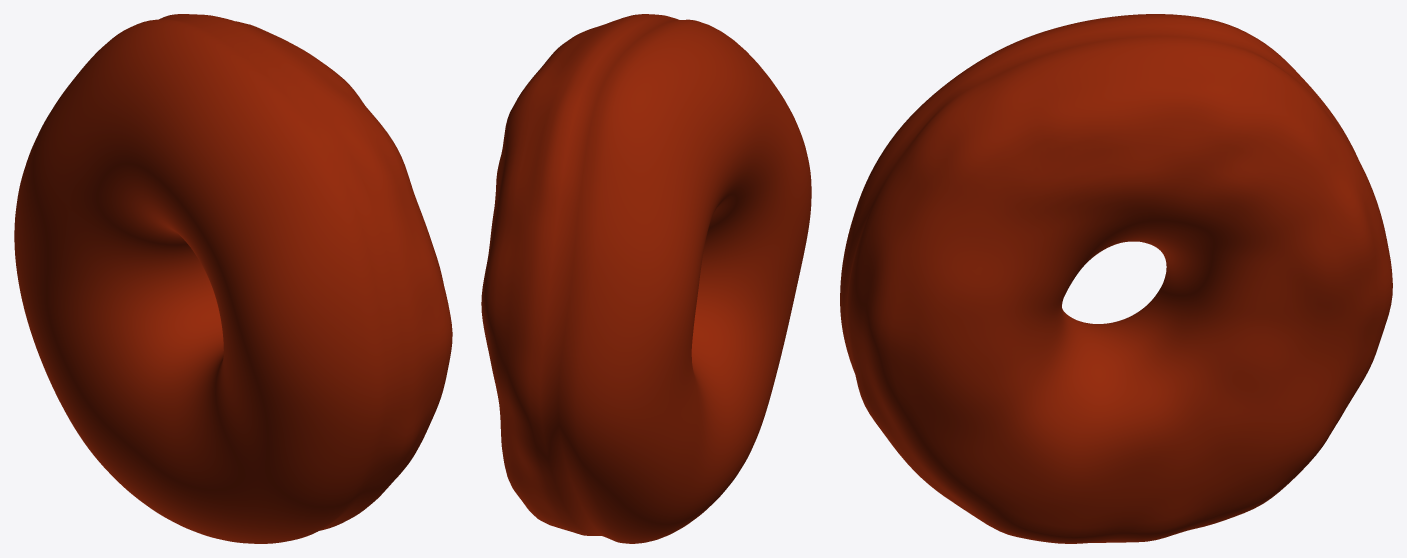
Rendered from badan_donut.obj.
The picture shows the model from 3 angles, left to right: view 1: azimuth 30°, elevation 25°; view 2: azimuth 150°, elevation 25°; view 3: azimuth 270°, elevation 25°; orthographic projection. The views are drawn at different scales.
Visible parts, largest first — view 1: badan_donut; view 2: badan_donut; view 3: badan_donut.
Boxes of the visible parts, x1,y1,x2,y2 form: badan_donut: (14, 14, 452, 543); badan_donut: (481, 14, 811, 543); badan_donut: (840, 14, 1392, 543).
Bounding box in the file's own units: 2.52 × 4.64 × 4.61.
